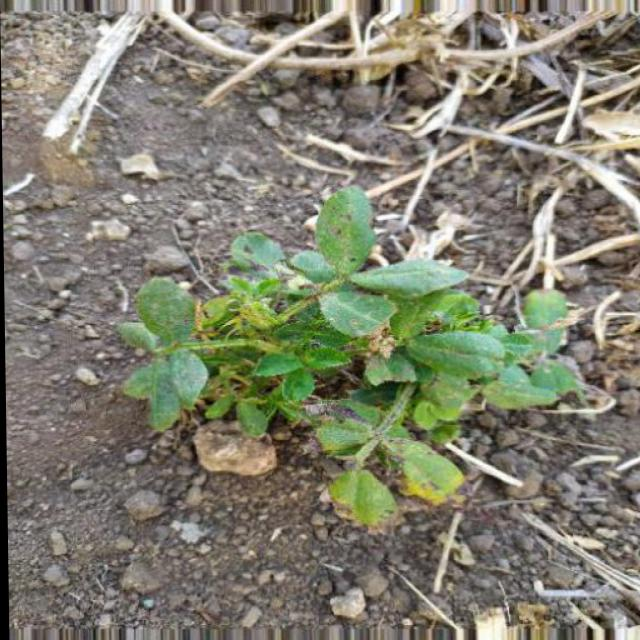weed: (98, 184, 586, 518)
